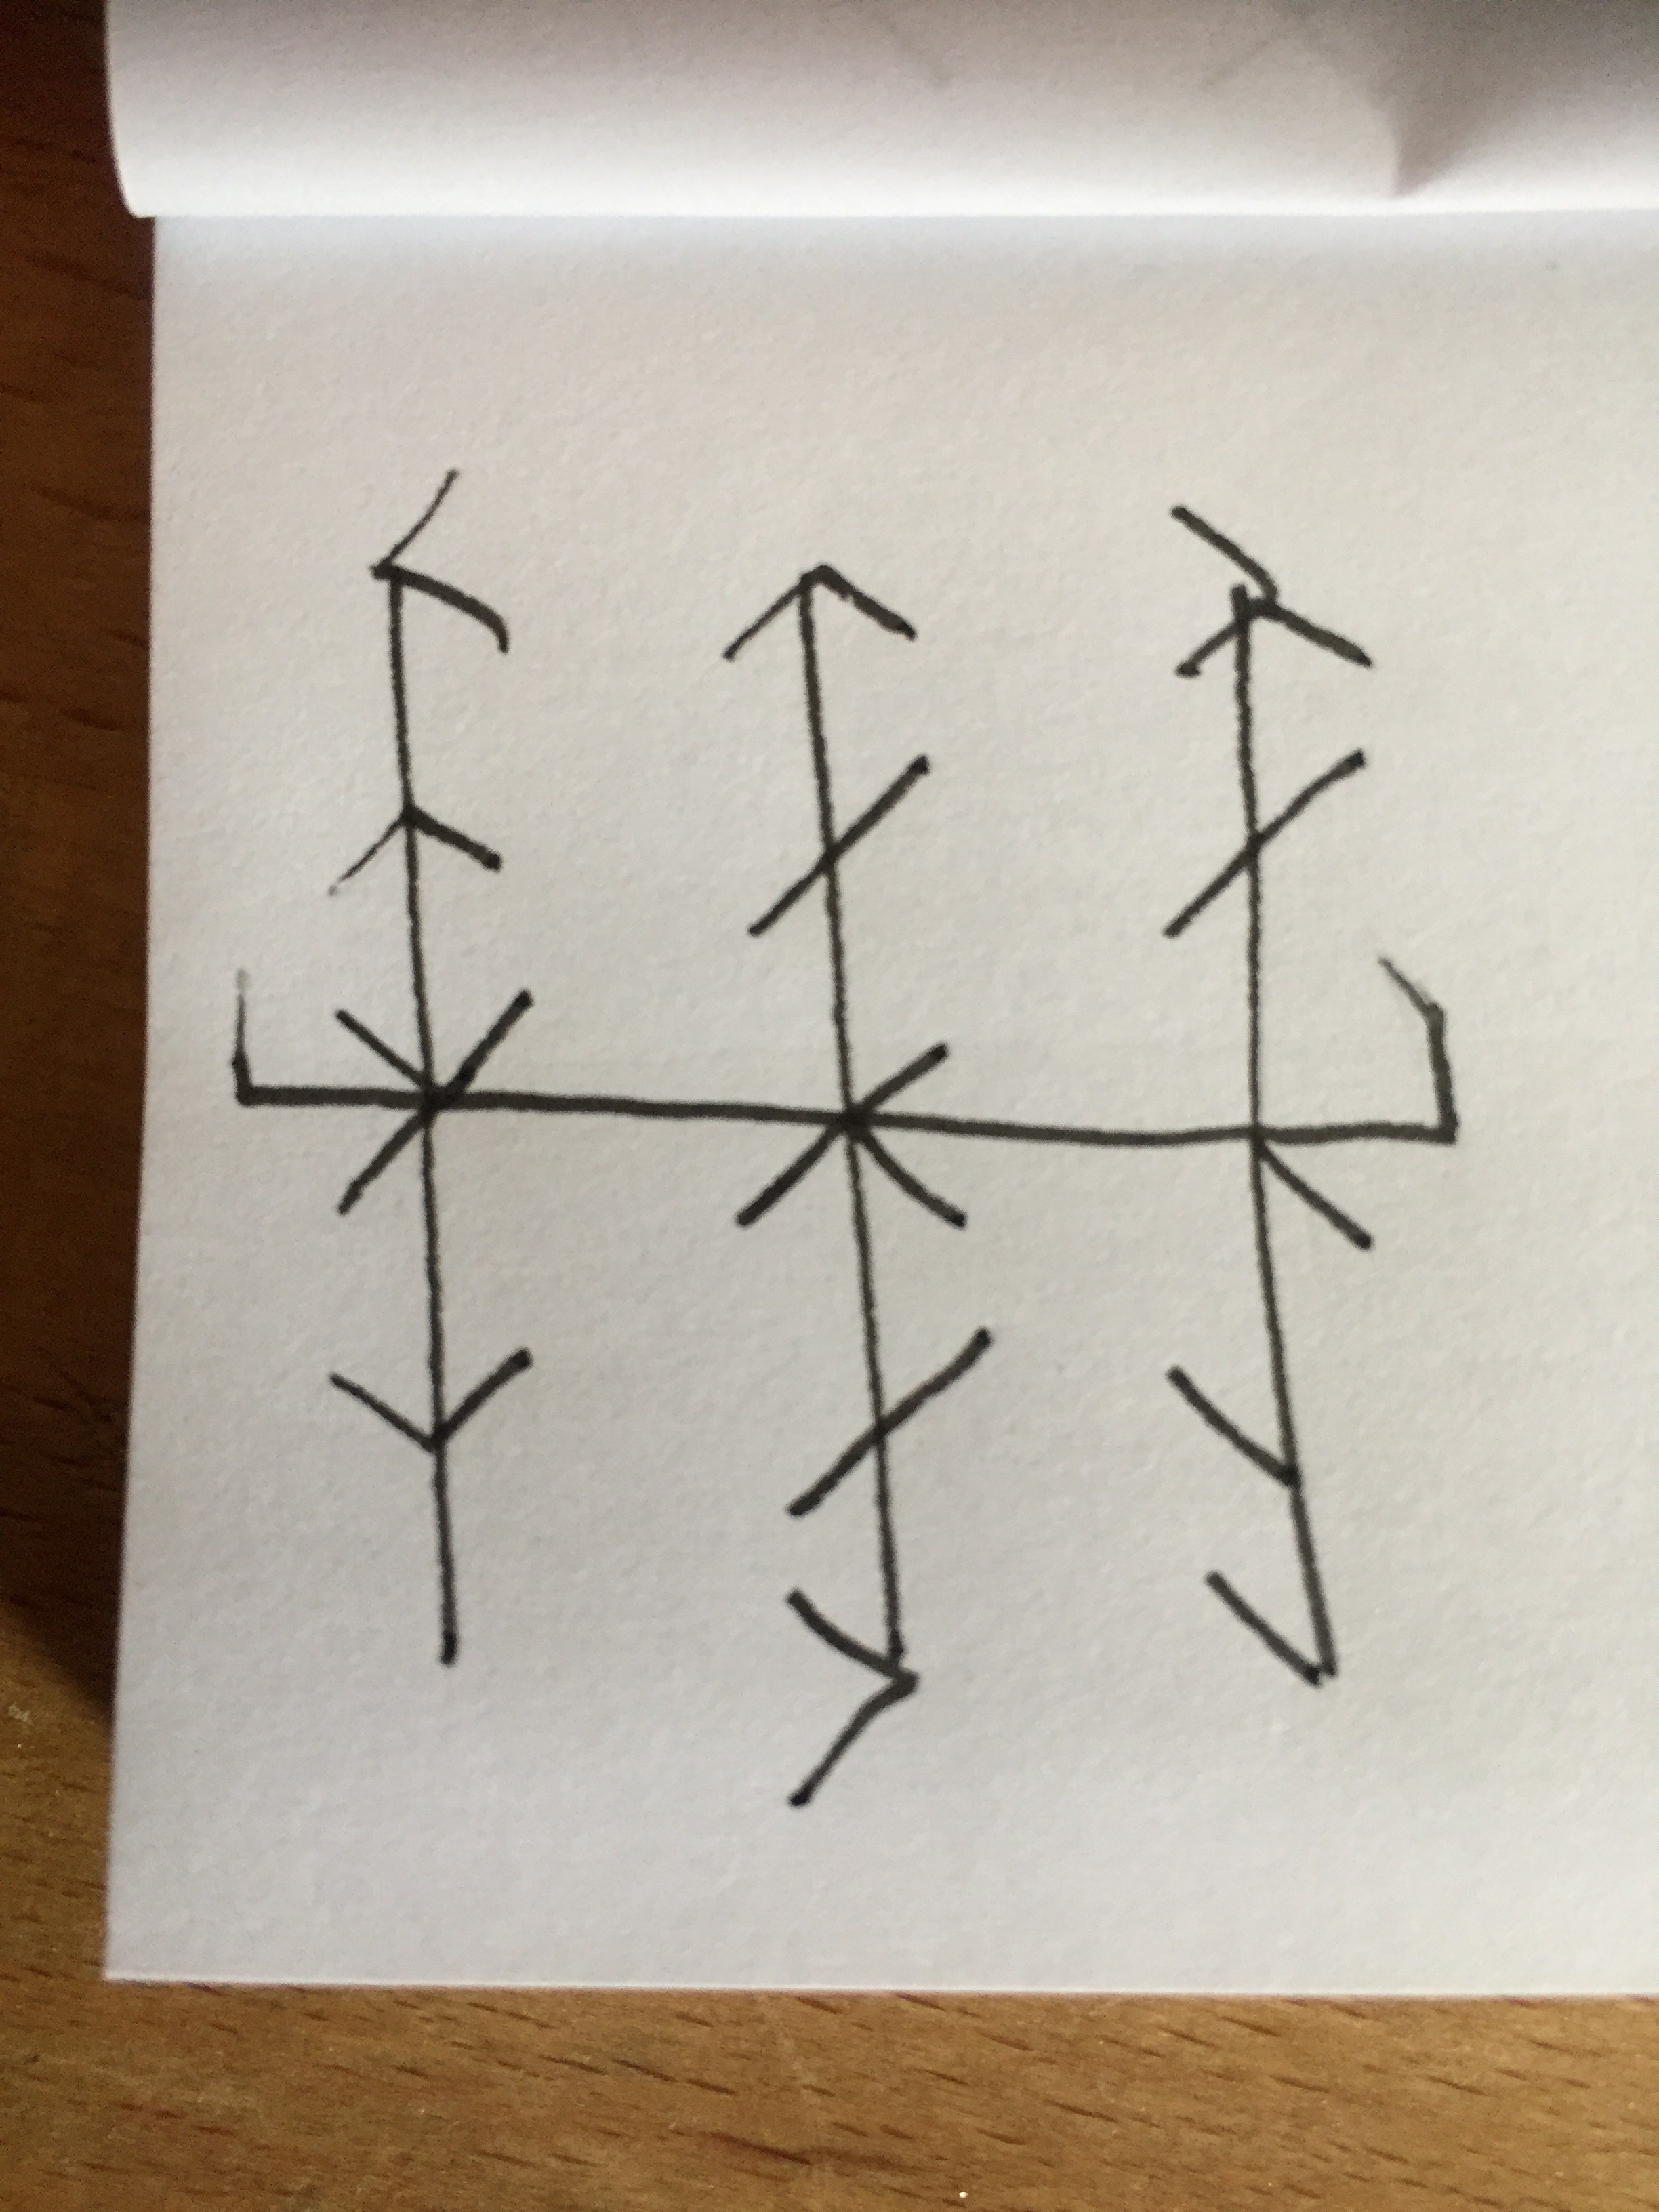Bar: (723, 564, 995, 1808), (326, 469, 535, 1670), (1162, 502, 1373, 1693)
Barcode: (232, 465, 1464, 1808)
End: (1272, 956, 1464, 1151)
Start: (232, 974, 335, 1113)
